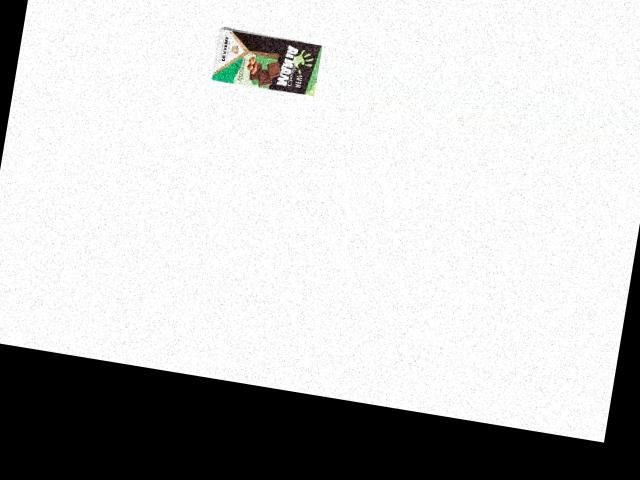chocolate: (209, 24, 324, 99)
